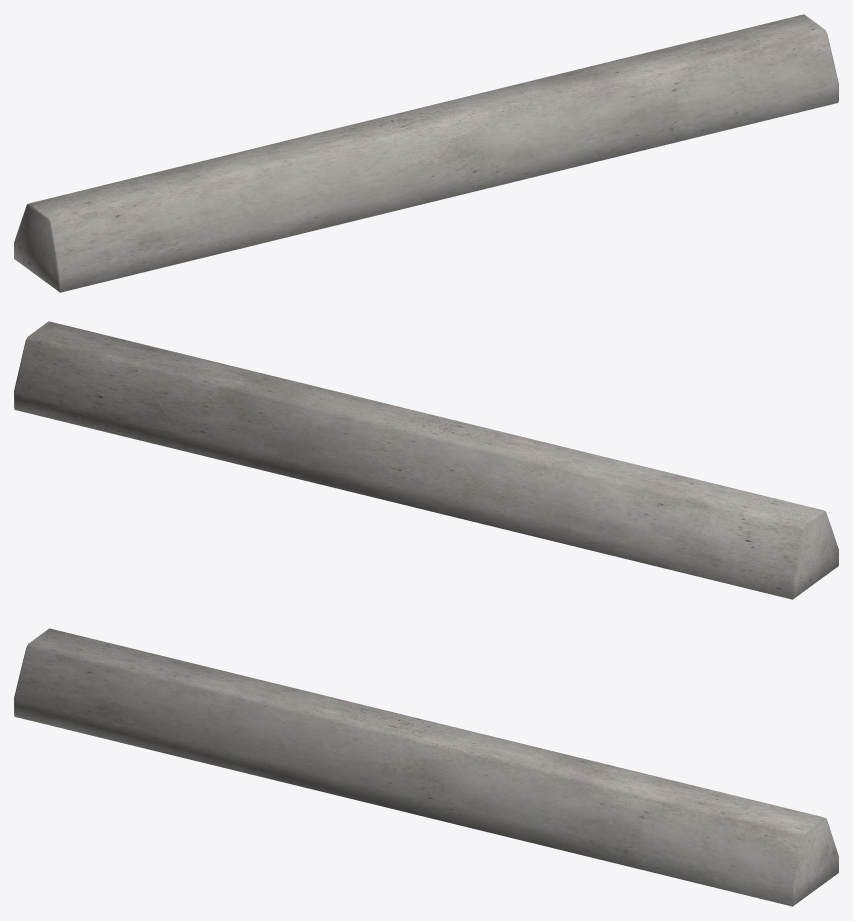
File: SM_Road_Block_01.glb
The picture shows the model from 3 angles, top to bottom: view 1: azimuth 30°, elevation 25°; view 2: azimuth 150°, elevation 25°; view 3: azimuth 330°, elevation 25°; orthographic projection.
Parts seen in each view (by area): view 1: SM_Road_Block_01; view 2: SM_Road_Block_01; view 3: SM_Road_Block_01.
Boxes of the visible parts, x1,y1,x2,y2 form: SM_Road_Block_01: [14, 14, 838, 292]; SM_Road_Block_01: [14, 321, 838, 599]; SM_Road_Block_01: [14, 628, 838, 906].
Size of the model in its own units: 2.1 by 0.1672 by 0.2126.
Materials: 1 (1 with a texture image).
